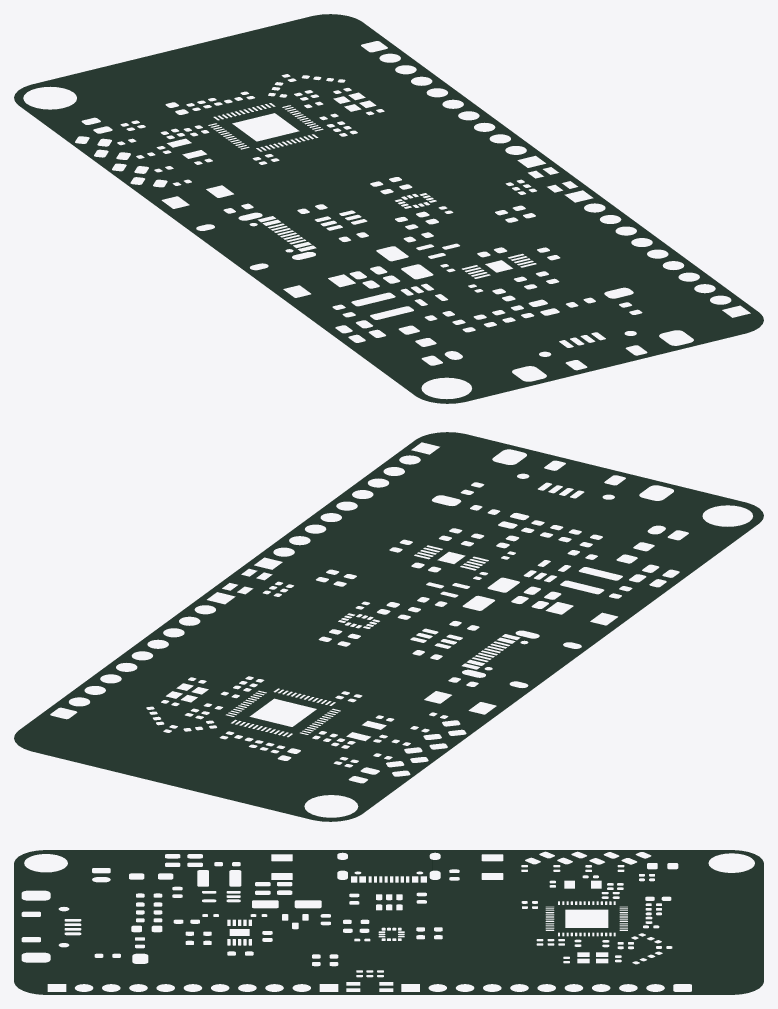
Rendered from board_soldermask.obj.
The picture shows the model from 3 angles, top to bottom: view 1: azimuth 30°, elevation 25°; view 2: azimuth 150°, elevation 25°; view 3: azimuth 270°, elevation 25°; orthographic projection. The views are drawn at different scales.
Parts seen in each view (by area): view 1: =>[0:1:1:30]; view 2: =>[0:1:1:30]; view 3: =>[0:1:1:30].
Boxes of the visible parts, left/top/right/bottom form: =>[0:1:1:30]: left=14, top=14, right=763, bottom=403; =>[0:1:1:30]: left=14, top=432, right=763, bottom=821; =>[0:1:1:30]: left=14, top=850, right=763, bottom=994.
Size of the model in its own units: 0.32 by 0 by 0.7.
